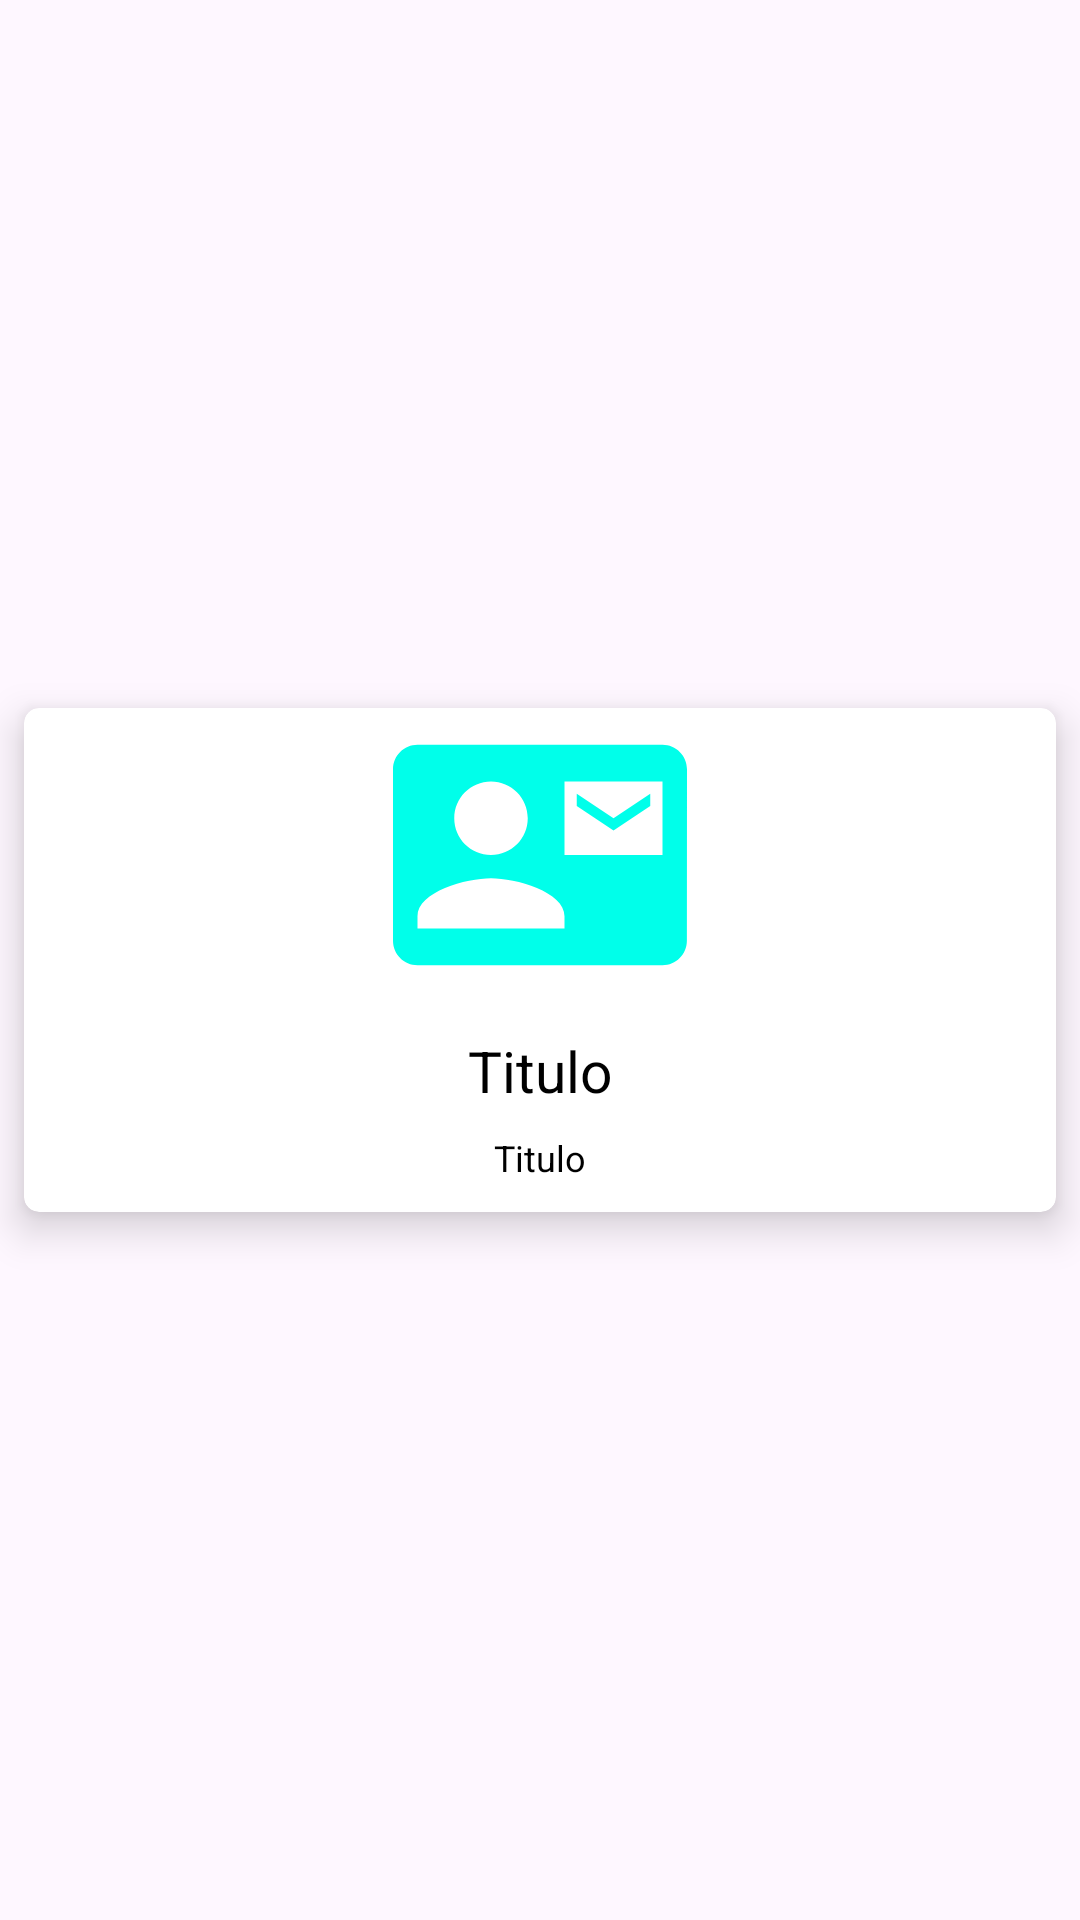

Icon click points for this 1080×1920 phone screenshot, format point (x, y):
contact mail: point (540, 855)
